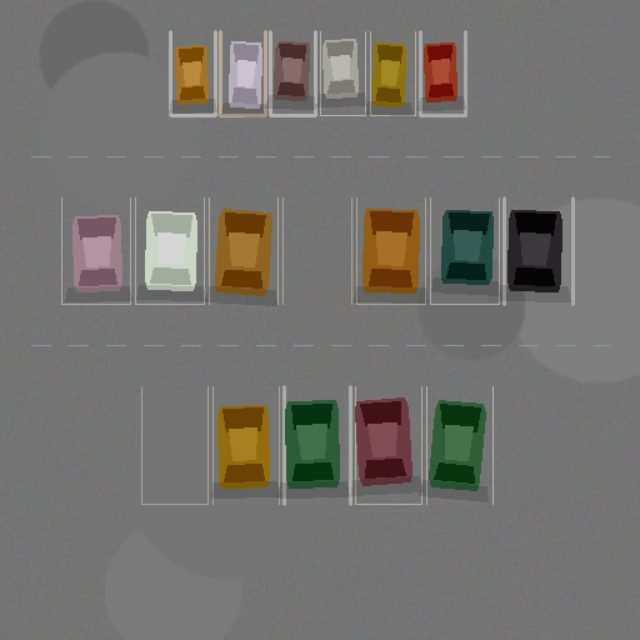space-empty: (141, 386, 208, 504), (282, 198, 351, 304)
space-occupied: (212, 386, 279, 504), (284, 386, 350, 504), (355, 386, 421, 504), (426, 386, 492, 504), (61, 198, 130, 304), (135, 198, 204, 304), (209, 198, 278, 304), (356, 198, 425, 304), (430, 198, 499, 304), (504, 198, 572, 304), (170, 31, 215, 115), (220, 31, 265, 115), (270, 31, 315, 115), (320, 31, 365, 115), (370, 31, 415, 115), (420, 31, 465, 115)
